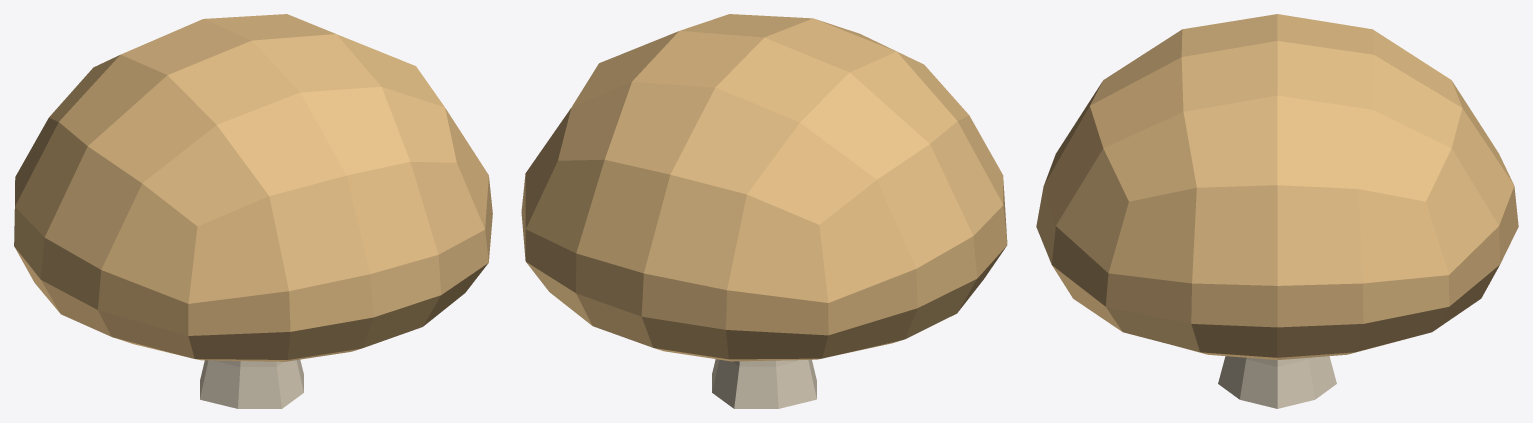
The model's file is champignon_mushroom.glb.
The picture shows the model from 3 angles, left to right: view 1: azimuth 30°, elevation 25°; view 2: azimuth 150°, elevation 25°; view 3: azimuth 270°, elevation 25°; orthographic projection.
Parts seen in each view (by area): view 1: champignon_mushroom; view 2: champignon_mushroom; view 3: champignon_mushroom.
Boxes of the visible parts, <box> form: champignon_mushroom: <box>14,14,492,408</box>; champignon_mushroom: <box>521,14,1007,408</box>; champignon_mushroom: <box>1036,14,1518,408</box>.
Size of the model in its own units: 0.7479 by 0.5903 by 0.7525.
Materials: 1 (1 with a texture image).
